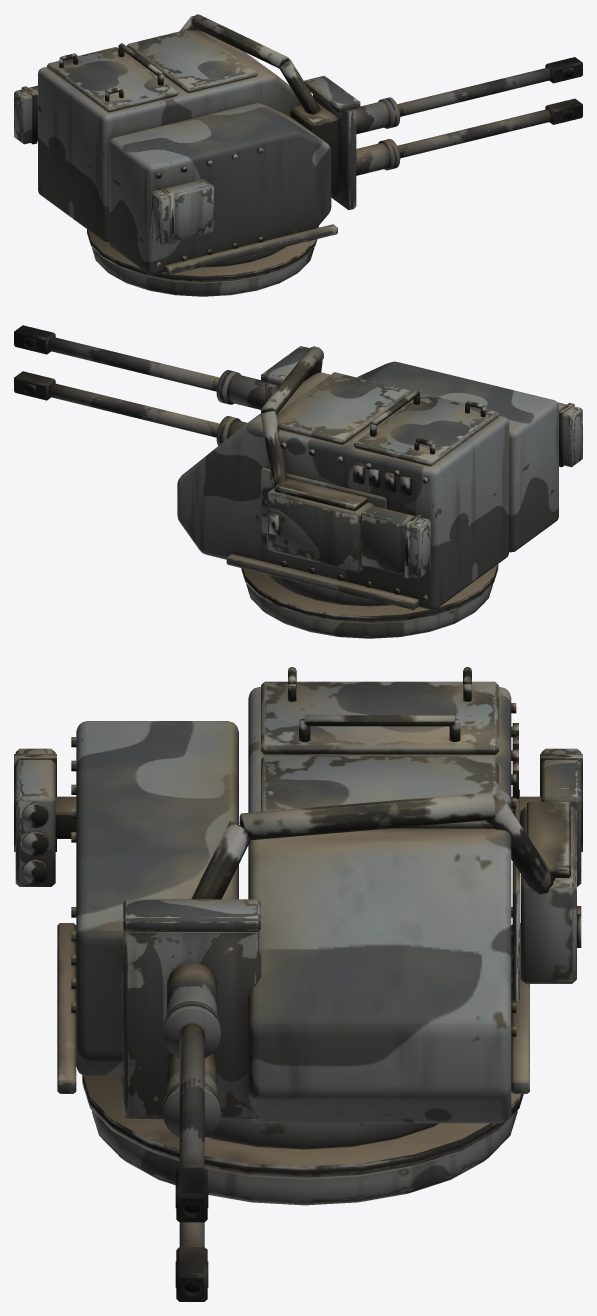
Rendered from turret_grach_t2_shark.glb.
3 renders of one model, top to bottom at view 1: azimuth 30°, elevation 25°; view 2: azimuth 150°, elevation 25°; view 3: azimuth 270°, elevation 25°, orthographic. The views are drawn at different scales.
Parts seen in each view (by area): view 1: turret_light_t2, guns, pods; view 2: turret_light_t2, guns, pods; view 3: turret_light_t2, guns, pods.
Part boxes in pixels (<box>): turret_light_t2: <box>38,14,337,296</box>; guns: <box>290,57,582,210</box>; pods: <box>14,85,214,244</box>; turret_light_t2: <box>177,346,558,638</box>; guns: <box>14,325,323,445</box>; pods: <box>360,402,582,578</box>; turret_light_t2: <box>57,667,581,1205</box>; guns: <box>123,899,260,1301</box>; pods: <box>14,748,582,886</box>.
Size of the model in its own units: 1.64 by 0.6416 by 0.9088.
3 materials, 3 textured.
